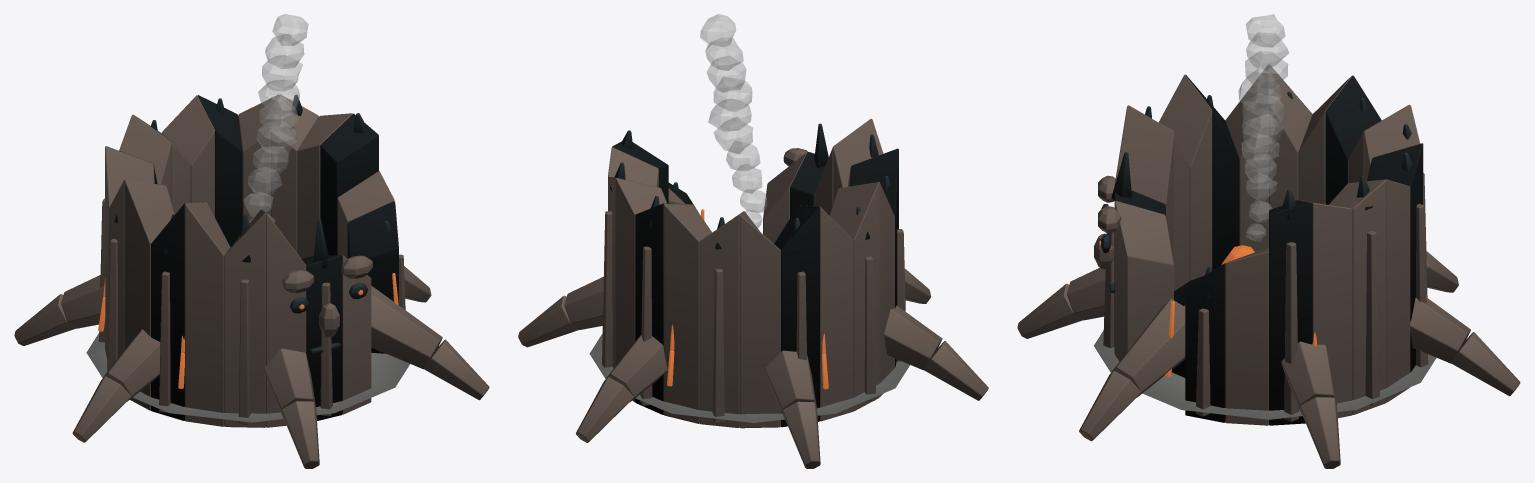
The model's file is ember_treant_stump.glb.
3 views of the same model, side by side, from view 1: azimuth 30°, elevation 25°; view 2: azimuth 150°, elevation 25°; view 3: azimuth 270°, elevation 25° (orthographic). The views are drawn at different scales.
Parts seen in each view (by area): view 1: ember_treant_stump; view 2: ember_treant_stump; view 3: ember_treant_stump.
Part boxes in pixels (x1=…): ember_treant_stump: x1=14, y1=14, x2=489, y2=468; ember_treant_stump: x1=518, y1=14, x2=988, y2=468; ember_treant_stump: x1=1017, y1=14, x2=1520, y2=468.
Size of the model in its own units: 6.33 by 5.1 by 6.29.
Materials: 8 (8 with a texture image).
